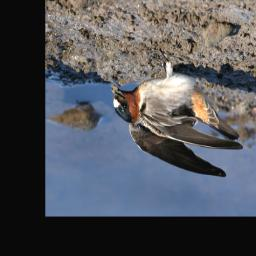Swallow: (111, 48, 243, 178)
